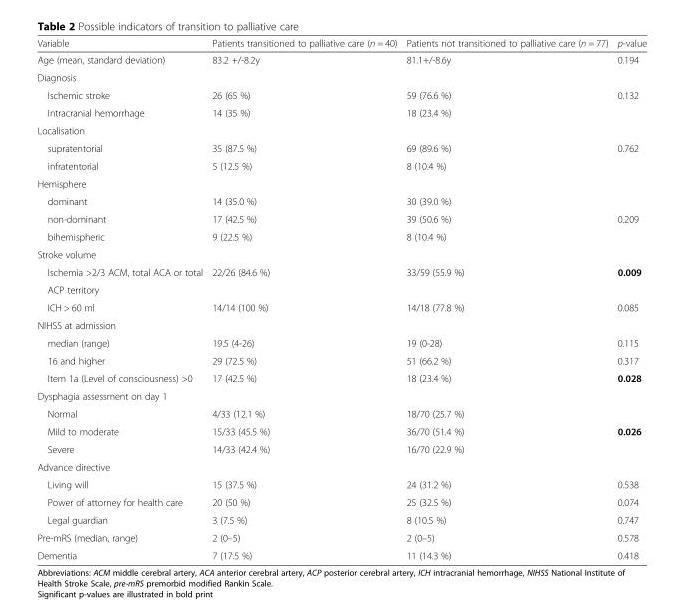table: (36, 37, 646, 560)
table column: (401, 37, 612, 560), (206, 37, 401, 560), (36, 37, 206, 560), (612, 37, 646, 560)
table column header: (36, 37, 646, 51)
table projected row header: (36, 121, 646, 139), (36, 174, 646, 192), (36, 280, 646, 298), (36, 386, 646, 404), (36, 457, 646, 475), (36, 68, 646, 85), (36, 245, 646, 262), (36, 316, 646, 333)
table row: (36, 85, 646, 103), (36, 103, 646, 121), (36, 121, 646, 139), (36, 156, 646, 174), (36, 174, 646, 192), (36, 209, 646, 227), (36, 227, 646, 245), (36, 262, 646, 280), (36, 280, 646, 298), (36, 298, 646, 316), (36, 333, 646, 351), (36, 351, 646, 369), (36, 386, 646, 404), (36, 404, 646, 422), (36, 439, 646, 457), (36, 457, 646, 475), (36, 475, 646, 493), (36, 510, 646, 528), (36, 528, 646, 546), (36, 51, 646, 68), (36, 68, 646, 85), (36, 139, 646, 156), (36, 192, 646, 209), (36, 245, 646, 262), (36, 316, 646, 333), (36, 369, 646, 386), (36, 422, 646, 439), (36, 493, 646, 510), (36, 37, 646, 51), (36, 546, 646, 560)
